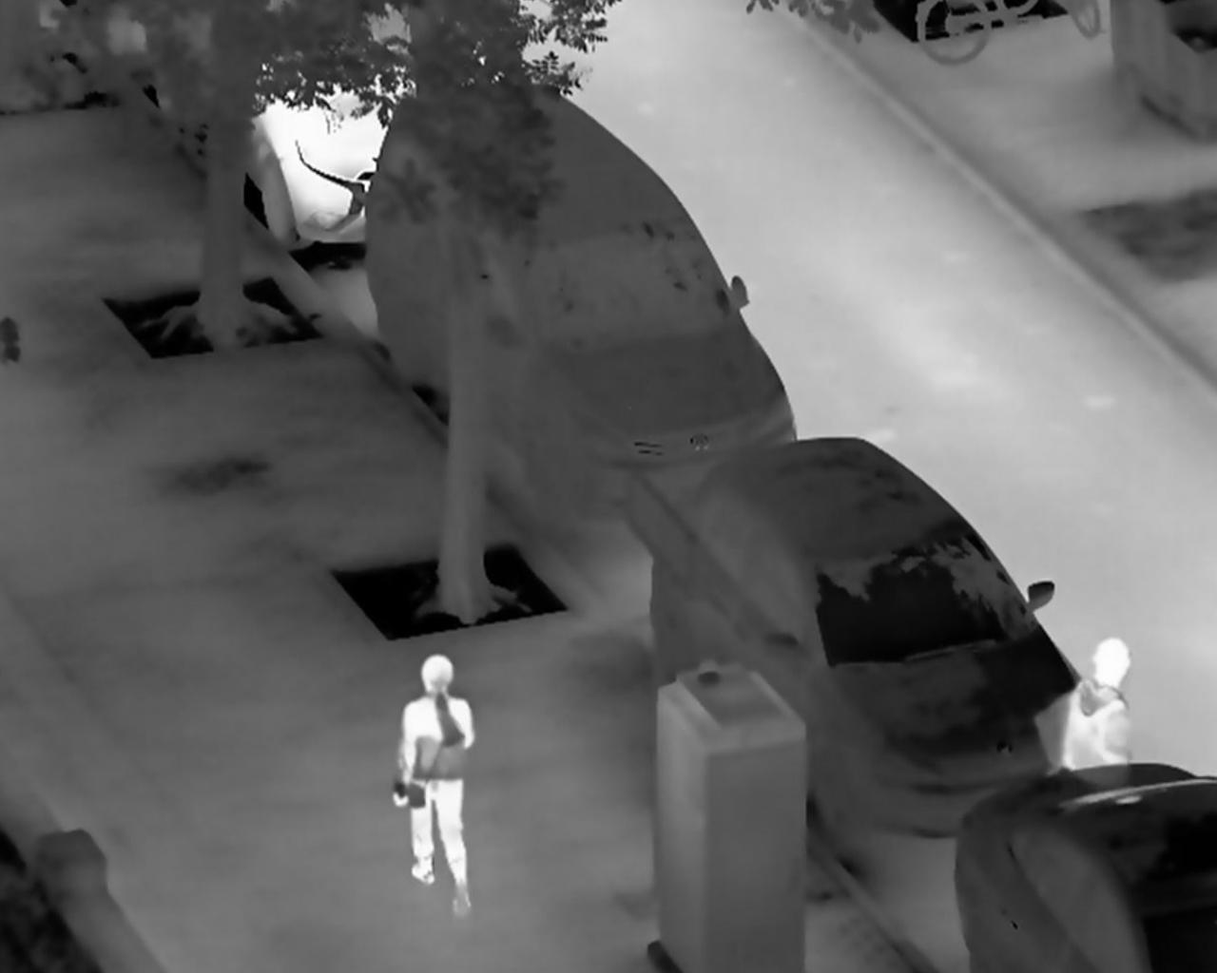person: (390, 651, 477, 917), (1060, 636, 1140, 772)
